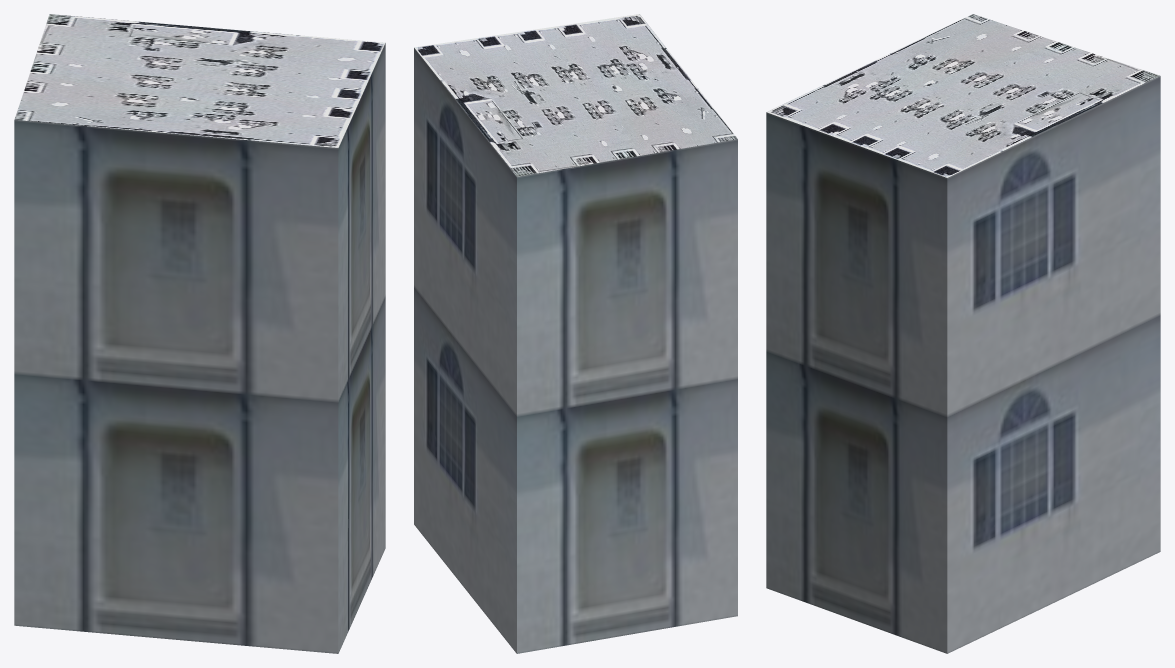
The model's file is ResTex__2110.fbx.
3 views of the same model, side by side, from view 1: azimuth 30°, elevation 25°; view 2: azimuth 150°, elevation 25°; view 3: azimuth 270°, elevation 25° (orthographic). The views are drawn at different scales.
Visible parts, largest first — view 1: CityEngineMaterial_17_m, CityEngineMaterial_4_m; view 2: CityEngineMaterial_17_m, CityEngineMaterial_4_m; view 3: CityEngineMaterial_17_m, CityEngineMaterial_4_m.
Part boxes in pixels (x1,y1,x2,y2): CityEngineMaterial_17_m: (14,43,385,653); CityEngineMaterial_4_m: (14,14,384,147); CityEngineMaterial_17_m: (414,48,737,653); CityEngineMaterial_4_m: (414,14,737,176); CityEngineMaterial_17_m: (766,76,1160,653); CityEngineMaterial_4_m: (766,14,1160,177).
Size of the model in its own units: 4.43 by 6 by 4.51.
2 materials, 2 textured.
